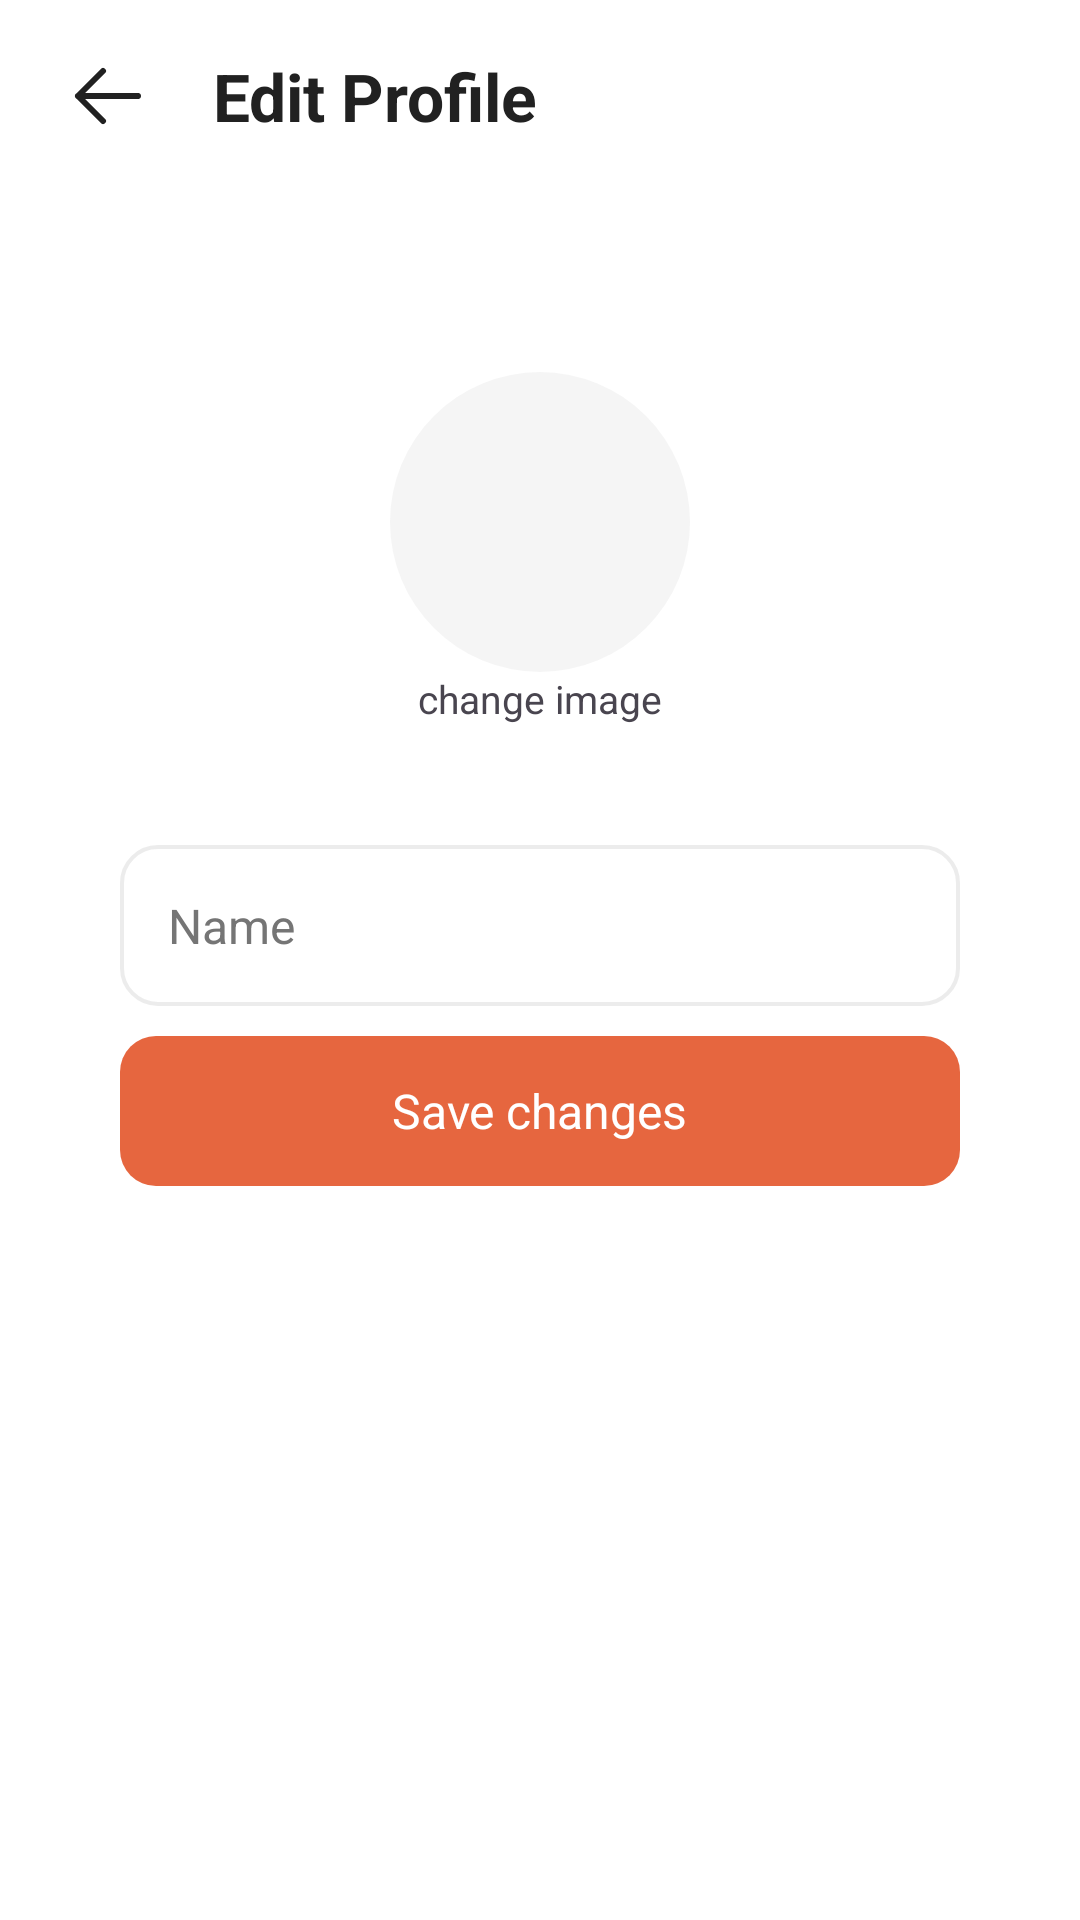

Screen size 1080px x 1920px. Icon name, then its center in pixels as (x,y):
back: (108,96)
